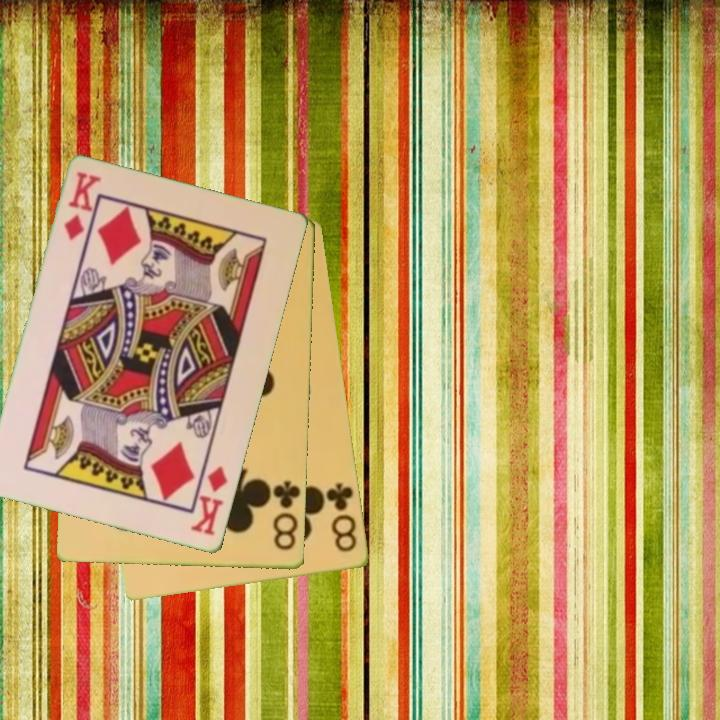8c: (323, 479, 360, 555), (268, 478, 303, 554)
Kd: (188, 455, 231, 539), (60, 168, 103, 244)
